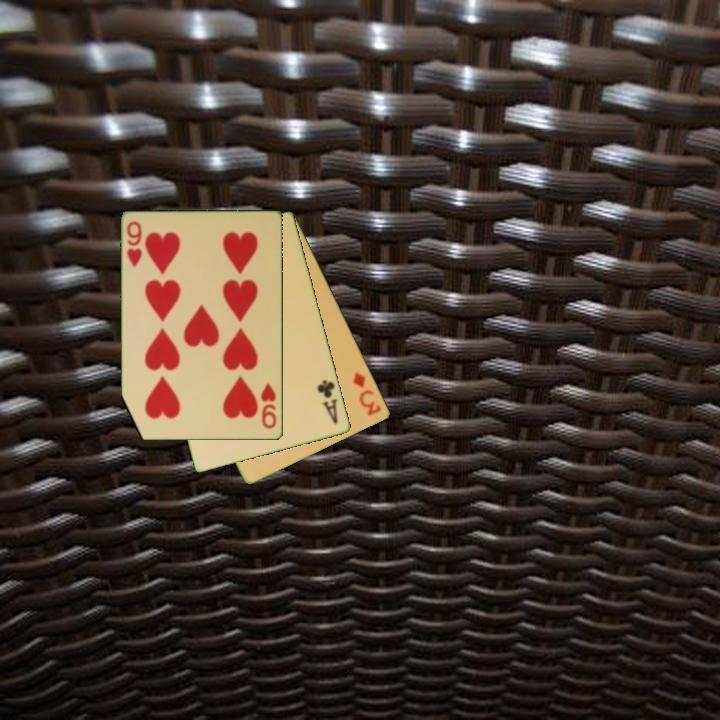3d: (350, 369, 385, 419)
9h: (258, 380, 279, 432), (124, 218, 145, 270)
Ac: (314, 376, 341, 428)
